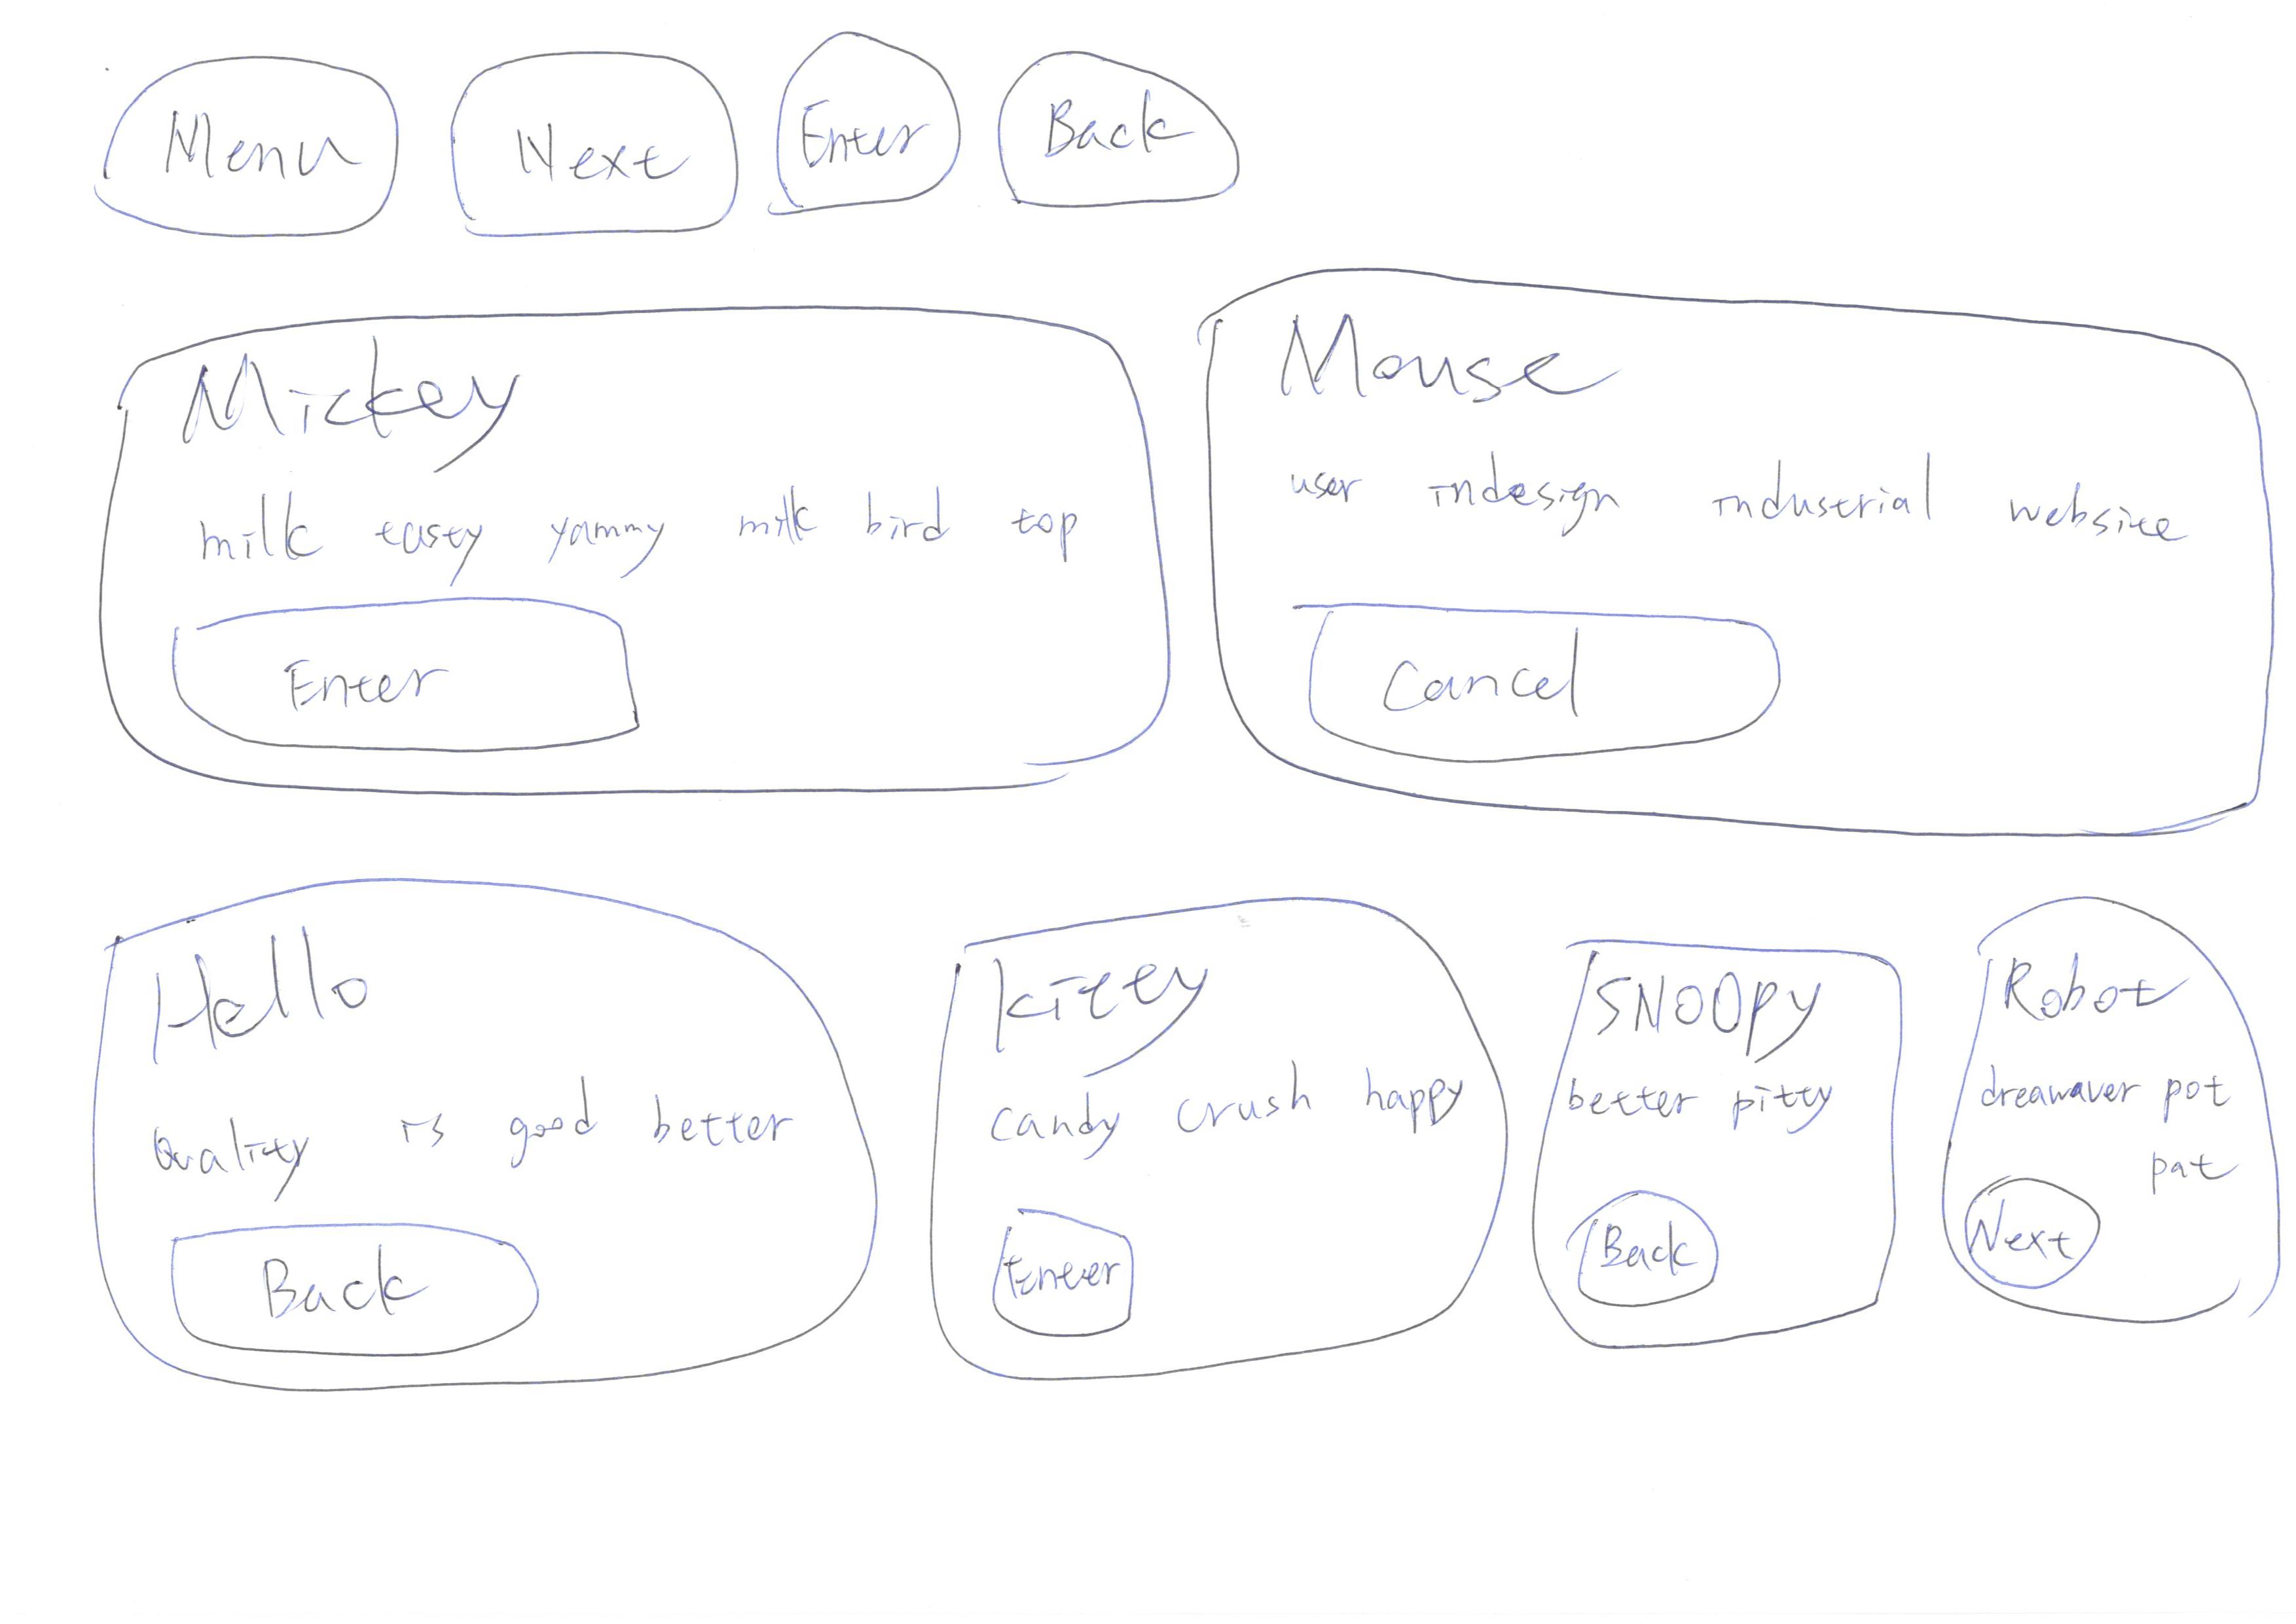back: (158, 1211, 563, 1369), (972, 26, 1275, 237), (1565, 1174, 1726, 1316)
btn-active: (169, 580, 640, 775), (752, 12, 974, 264), (976, 1190, 1159, 1362)
cancel: (1275, 584, 1818, 777)
double: (1173, 248, 2296, 866), (74, 283, 1197, 838), (88, 851, 890, 1446), (911, 840, 1529, 1457), (1521, 896, 1922, 1422), (1934, 875, 2296, 1383)
menu: (56, 39, 425, 262)
next: (415, 19, 765, 262), (1932, 1162, 2113, 1306)
row: (42, 255, 2296, 875), (42, 859, 2296, 1480), (26, 4, 2280, 260)
small-title: (139, 316, 534, 469), (1232, 313, 1631, 432), (1602, 953, 1853, 1081), (149, 937, 399, 1055), (1007, 953, 1201, 1060), (2013, 954, 2191, 1042)
text: (1299, 441, 2247, 550), (207, 468, 1050, 564), (169, 1060, 793, 1178), (983, 1042, 1477, 1167), (1980, 1076, 2236, 1176), (1589, 1074, 1881, 1134)
